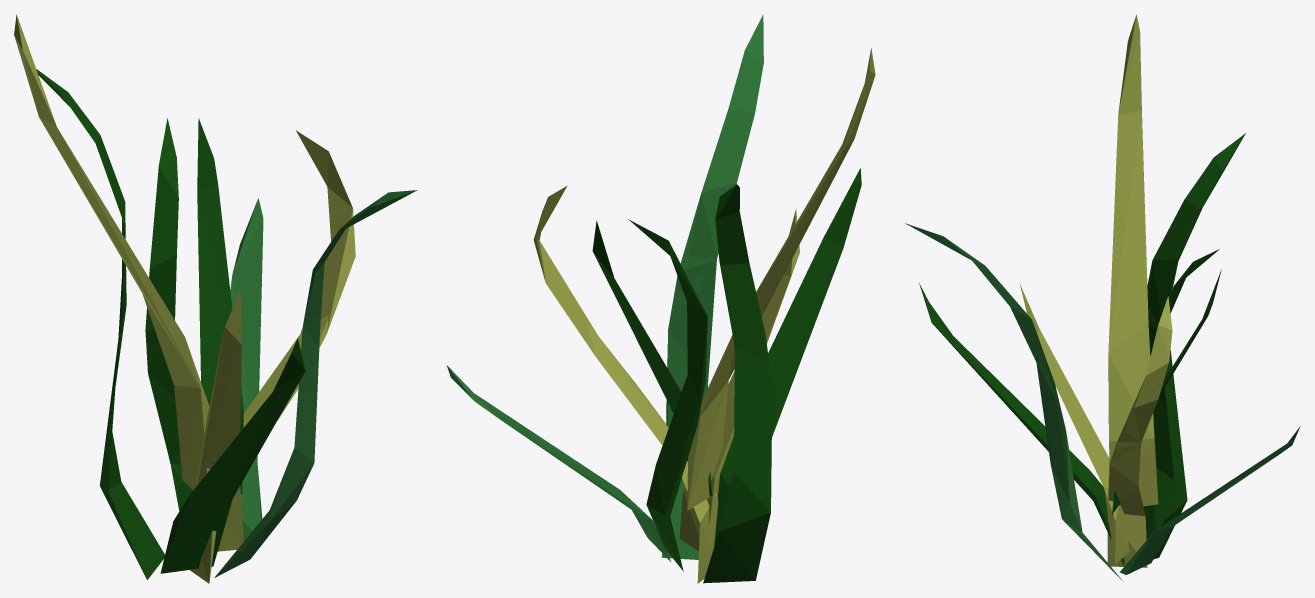
Rendered from Grass.fbx.
3 views of the same model, side by side, from view 1: azimuth 30°, elevation 25°; view 2: azimuth 150°, elevation 25°; view 3: azimuth 270°, elevation 25° (orthographic). The views are drawn at different scales.
Visible parts, largest first — view 1: Cube.021; view 2: Cube.021; view 3: Cube.021.
Boxes of the visible parts, box(x1,y1,x2,y2) form: Cube.021: box(14, 14, 417, 583); Cube.021: box(446, 14, 875, 583); Cube.021: box(905, 14, 1300, 581).
Size of the model in its own units: 308 by 513 by 381.
